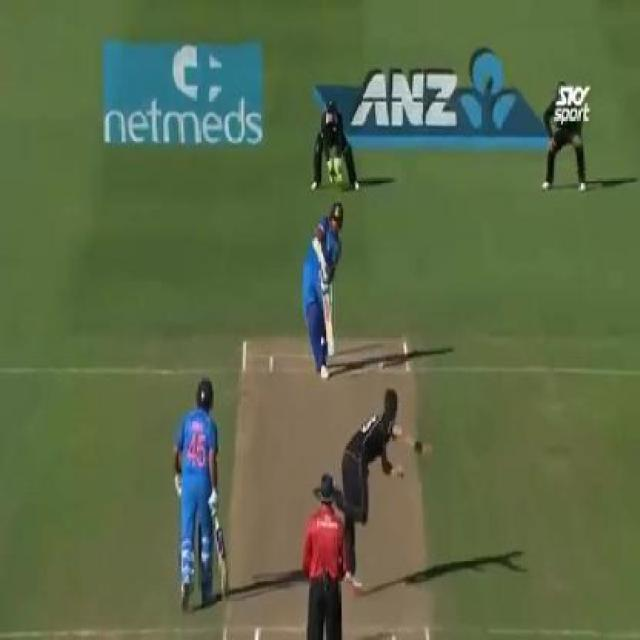Cricket ball: (319, 336, 326, 345)
